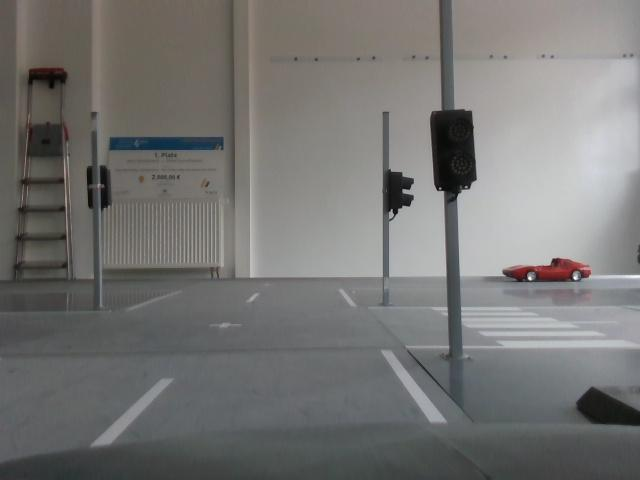car: (506, 244, 602, 296)
traffic light: (432, 107, 479, 193), (380, 169, 416, 215)
